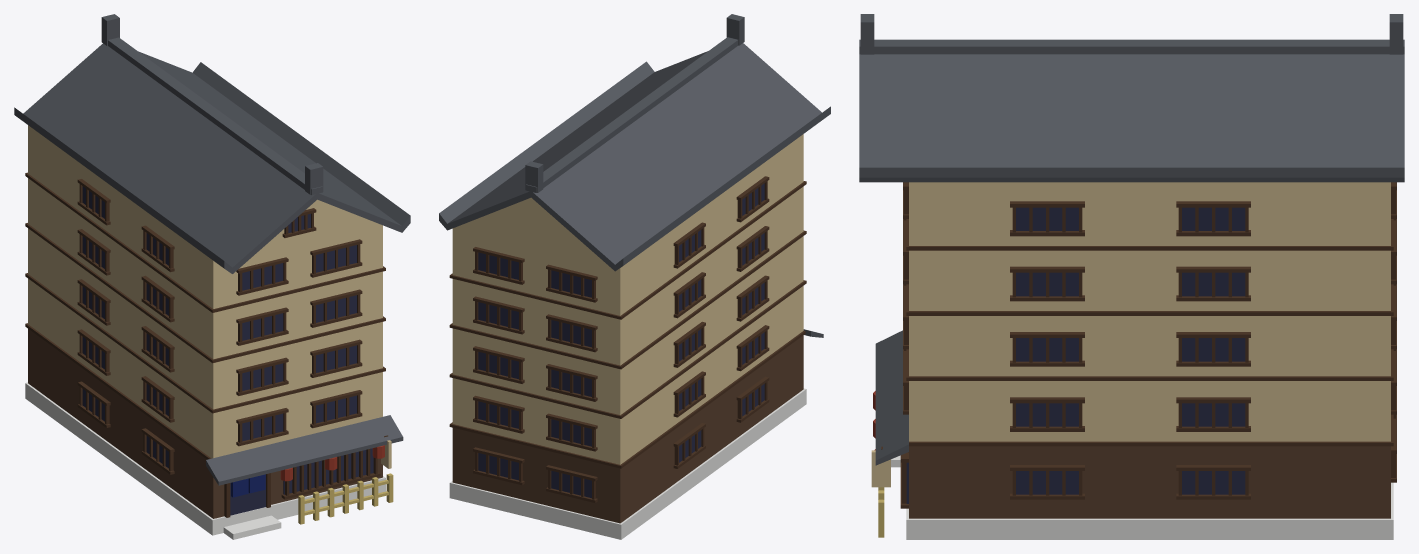
File: house-1x2-5f-machiya-a.glb
3 renders of one model, left to right at view 1: azimuth 30°, elevation 25°; view 2: azimuth 150°, elevation 25°; view 3: azimuth 270°, elevation 25°, orthographic. The views are drawn at different scales.
Parts seen in each view (by area): view 1: house-1x2-5f-machiya-a; view 2: house-1x2-5f-machiya-a; view 3: house-1x2-5f-machiya-a.
Boxes of the visible parts, x1,y1,x2,y2 form: house-1x2-5f-machiya-a: [14, 14, 410, 539]; house-1x2-5f-machiya-a: [439, 14, 830, 539]; house-1x2-5f-machiya-a: [859, 14, 1404, 539].
Size of the model in its own units: 1.01 by 1.86 by 1.97.
Materials: 1 (1 with a texture image).
